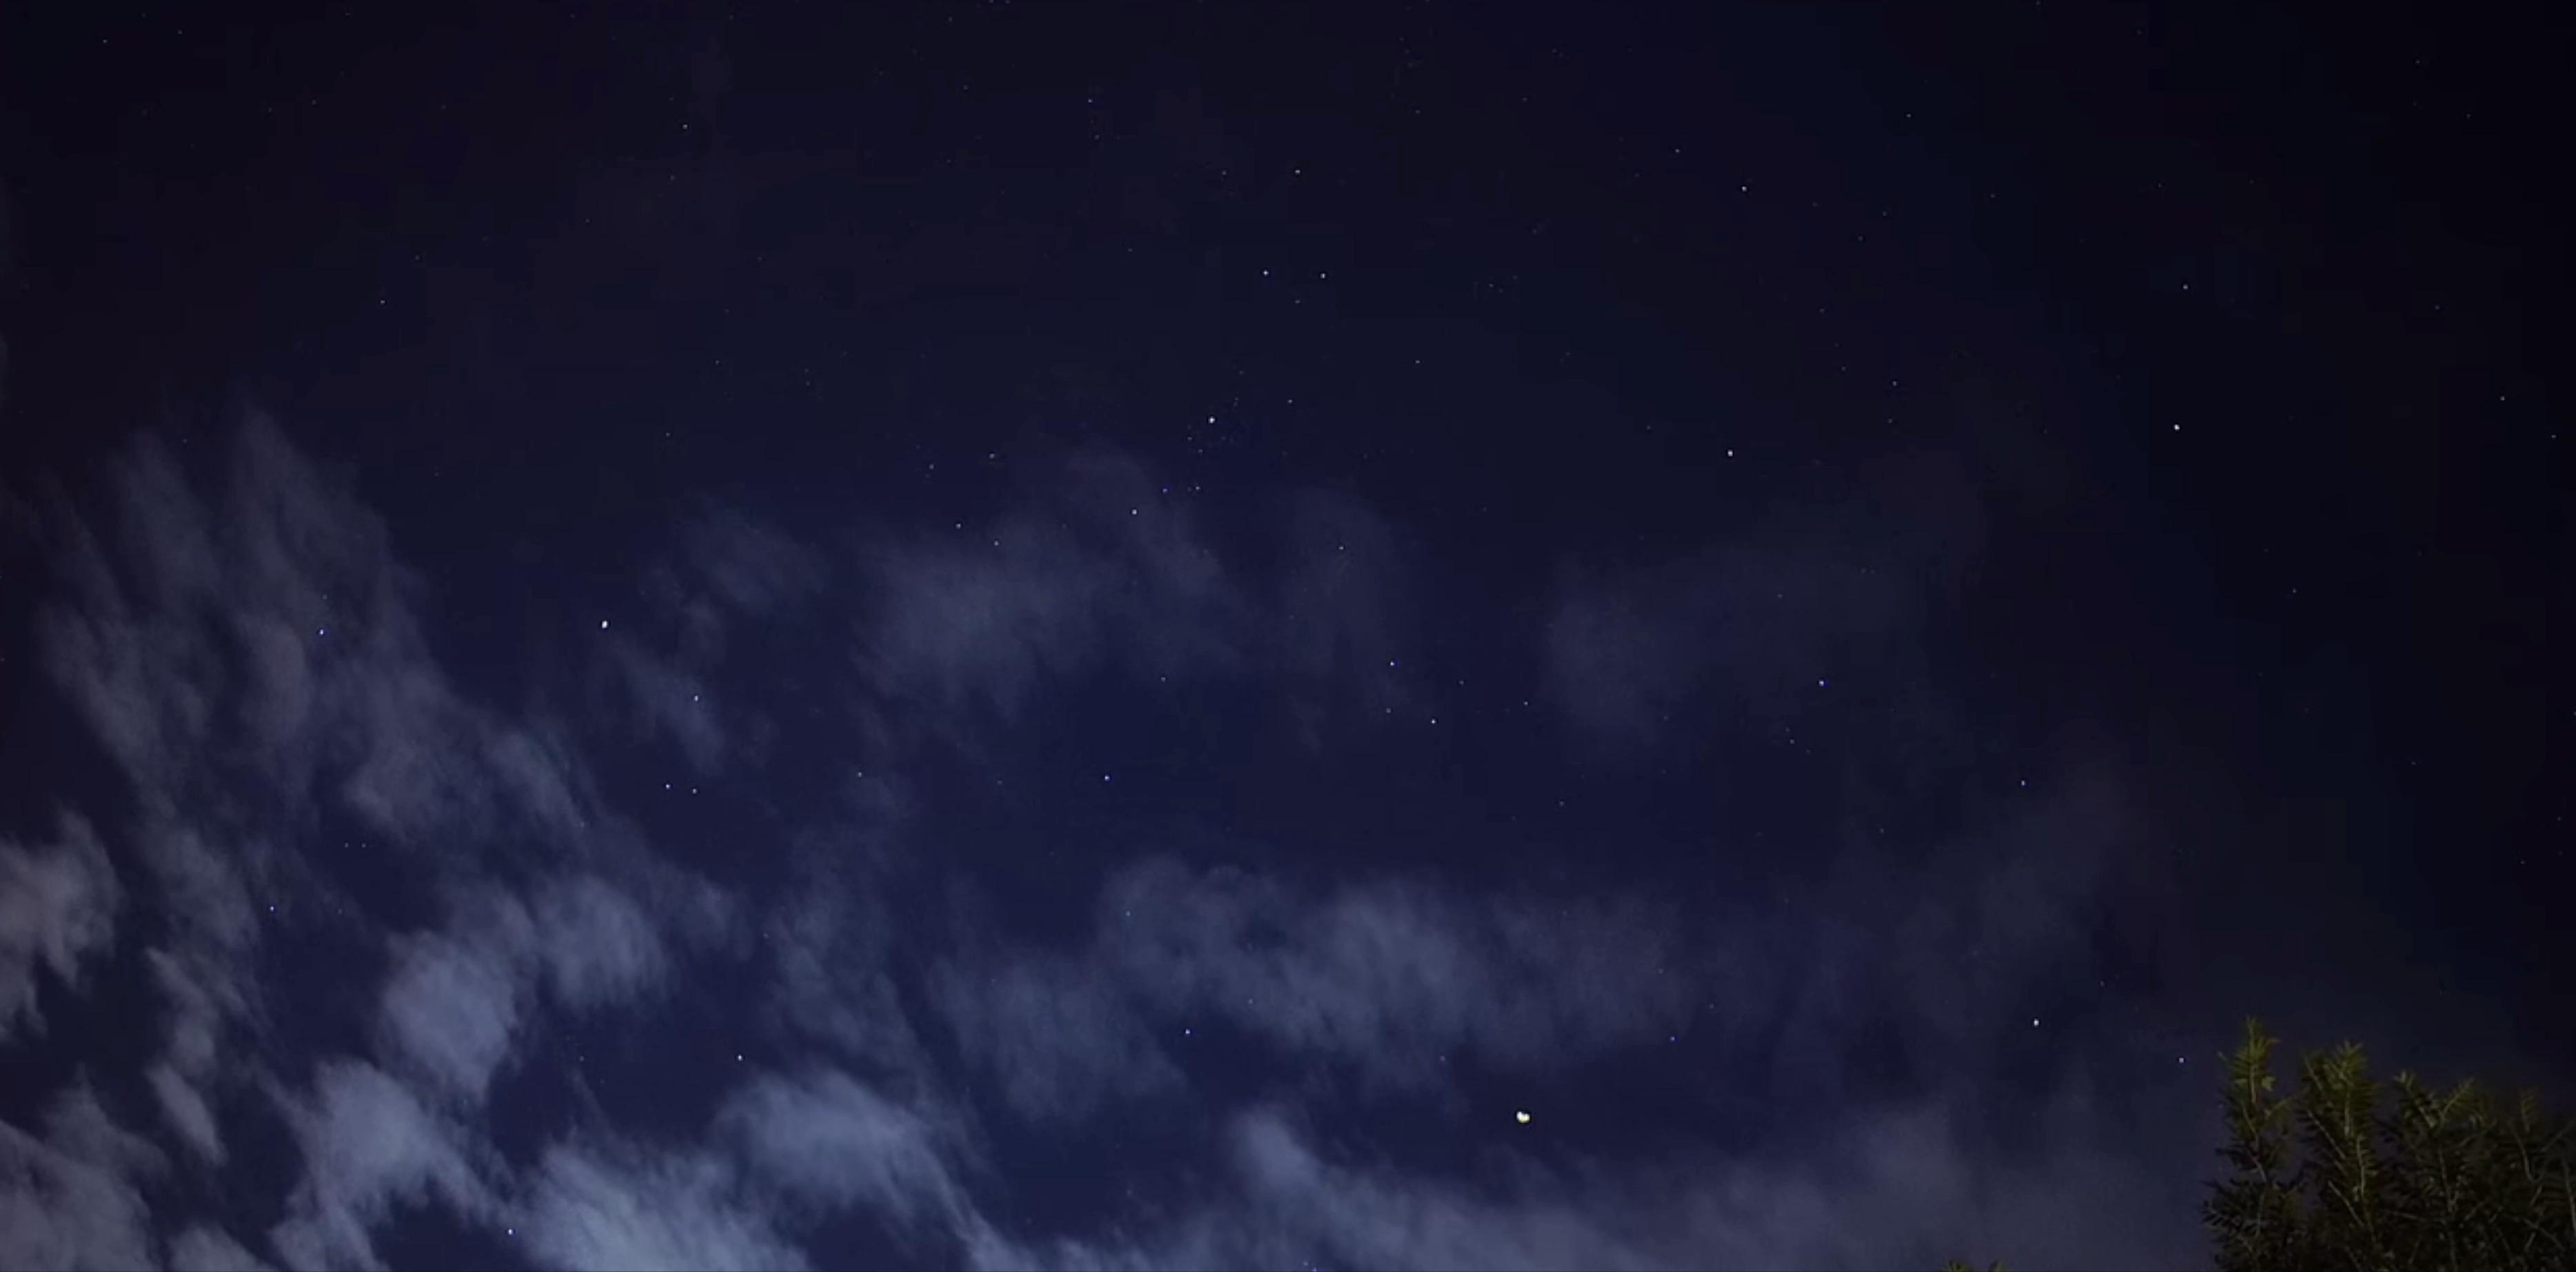Plane: (1502, 1091, 1548, 1145)
